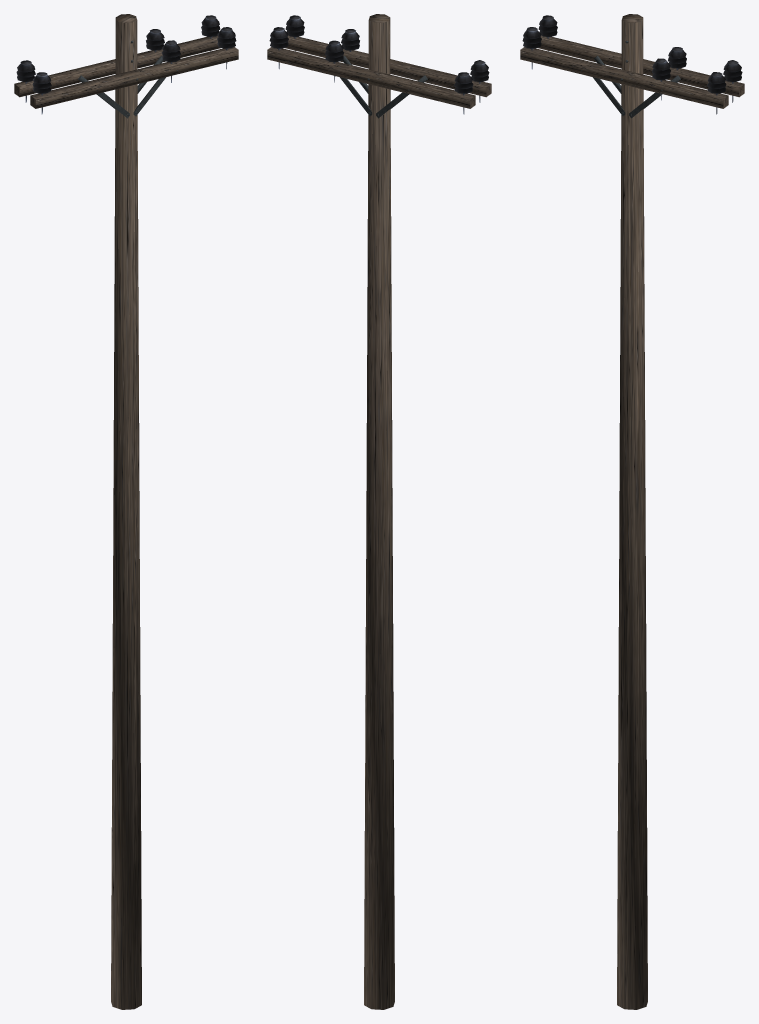
The model's file is pole_wood_d_lod_1.glb.
3 renders of one model, left to right at view 1: azimuth 30°, elevation 25°; view 2: azimuth 150°, elevation 25°; view 3: azimuth 330°, elevation 25°, orthographic.
Visible parts, largest first — view 1: pole_wood_d_lod_1; view 2: pole_wood_d_lod_1; view 3: pole_wood_d_lod_1.
Part boxes in pixels (x1=…): pole_wood_d_lod_1: x1=14, y1=14, x2=238, y2=1009; pole_wood_d_lod_1: x1=267, y1=14, x2=491, y2=1009; pole_wood_d_lod_1: x1=520, y1=14, x2=744, y2=1009.
Size of the model in its own units: 2.2 by 10.2 by 0.4893.
Materials: 2 (2 with a texture image).
